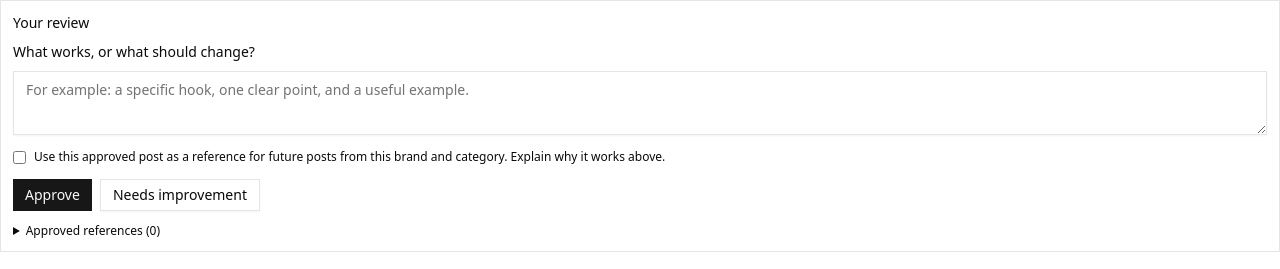
Test case: requires a reason before saving an approved reference
The image size is (1280, 269).
What coordinates should you click on to do the following:
click the checkbox
I would click on:
 (20, 158)
Its box is [13, 151, 26, 164].
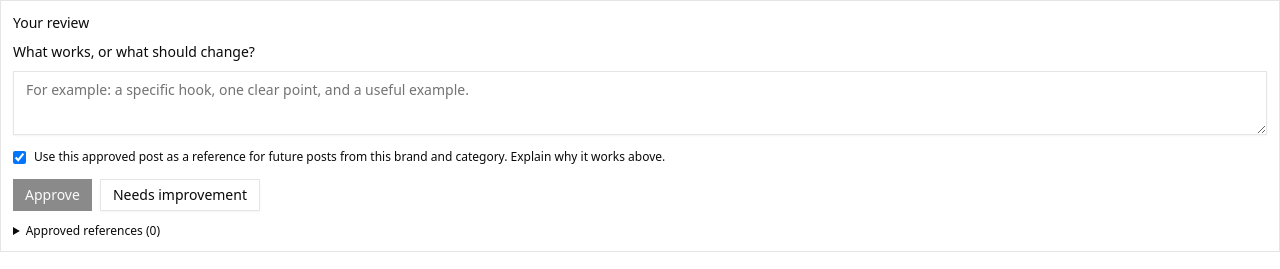
Expected: the button "Needs improvement" is enabled, [100, 178, 260, 210]
Expected: the button "Approve" is disabled, [13, 178, 92, 210]
